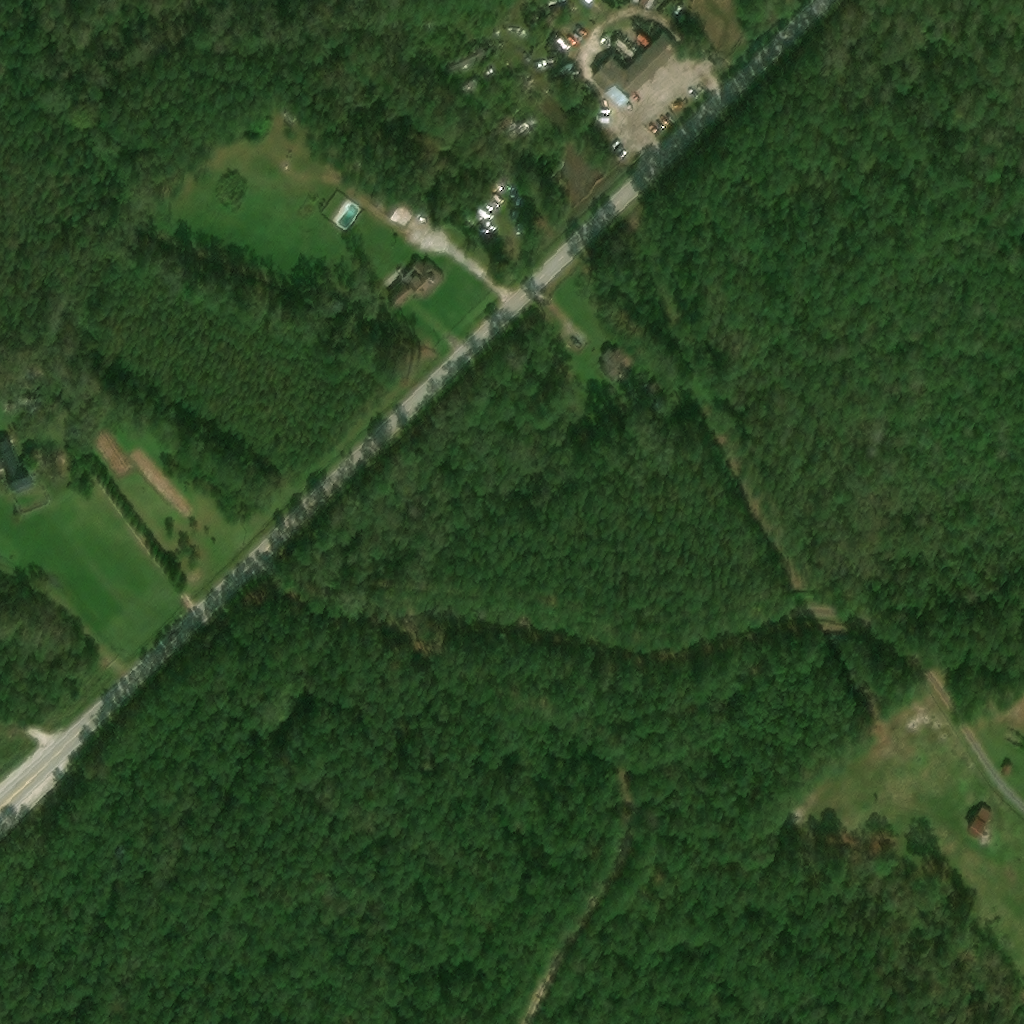no_damage: (589, 31, 682, 111), (385, 258, 446, 312), (0, 434, 36, 496), (597, 342, 639, 384), (445, 47, 488, 76), (964, 808, 993, 838), (644, 380, 666, 402), (539, 11, 560, 31), (497, 115, 516, 134), (461, 81, 480, 98), (281, 111, 297, 125), (1000, 764, 1012, 779), (645, 0, 659, 11), (639, 0, 649, 8), (631, 0, 642, 4)
unclassified: (367, 184, 421, 232), (4, 397, 50, 423), (363, 187, 372, 196)
